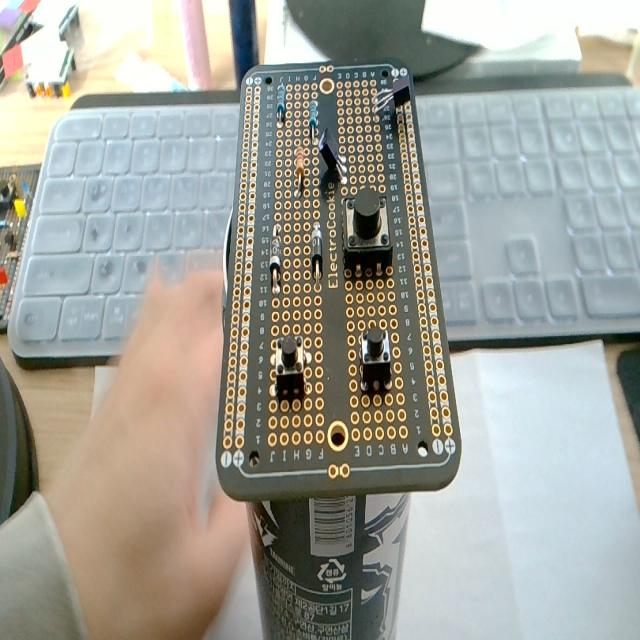diode: (269, 224, 282, 292), (312, 221, 324, 281)
resistor: (294, 144, 307, 193), (276, 82, 286, 120), (309, 103, 319, 140)
switch: (342, 188, 392, 275), (359, 326, 392, 394), (274, 333, 308, 399)
transistor: (375, 75, 409, 132), (318, 127, 348, 186)
